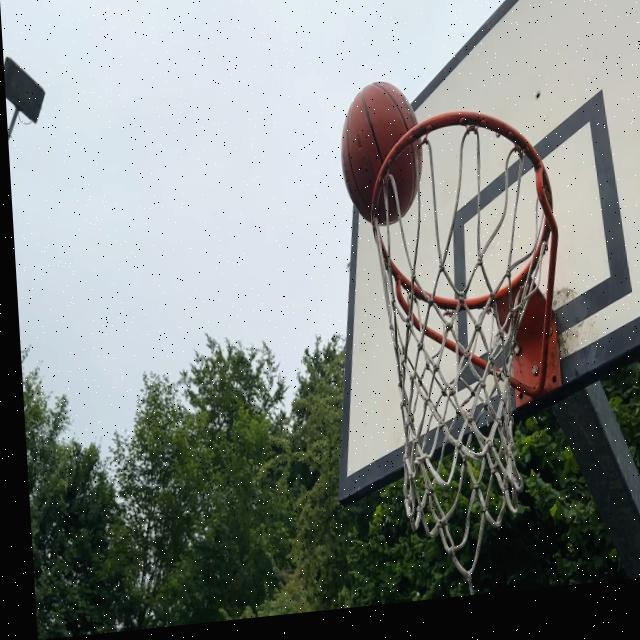rebound_hit: (338, 77, 426, 230)
